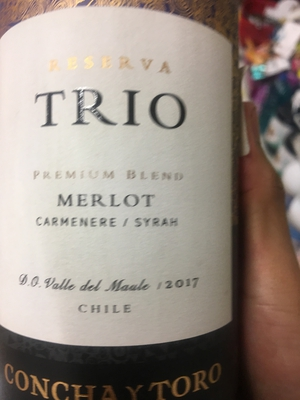trio merlot: (1, 20, 244, 400)
